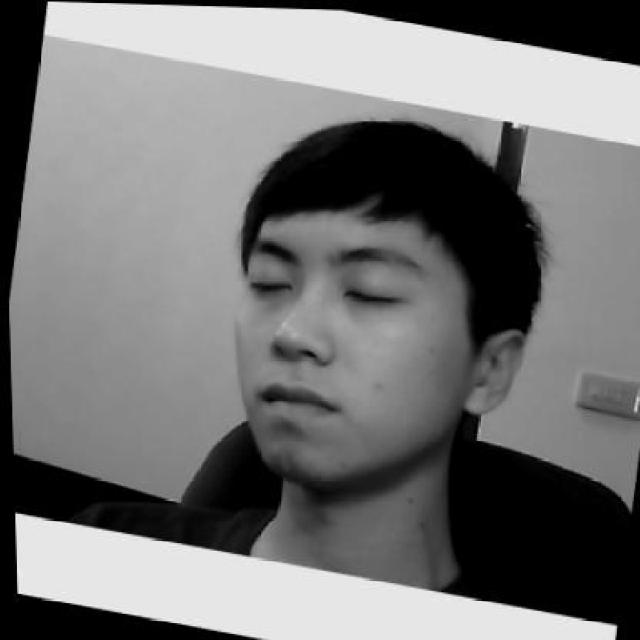inattentif: (195, 88, 560, 520)
